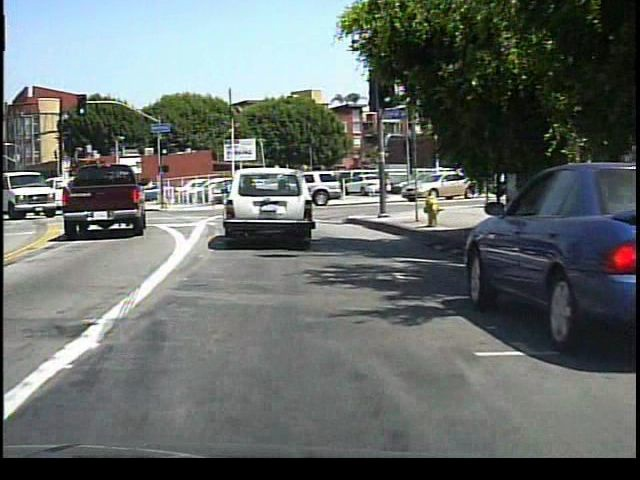person: (377, 165, 394, 203)
